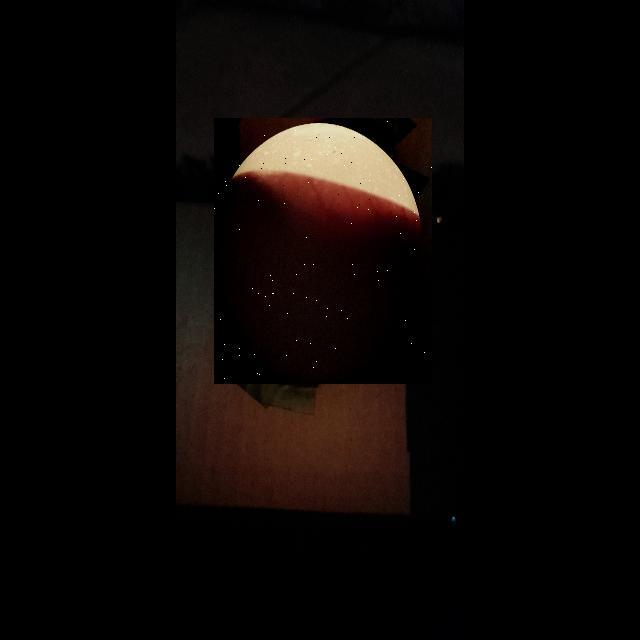Fertile: (214, 118, 432, 384)
